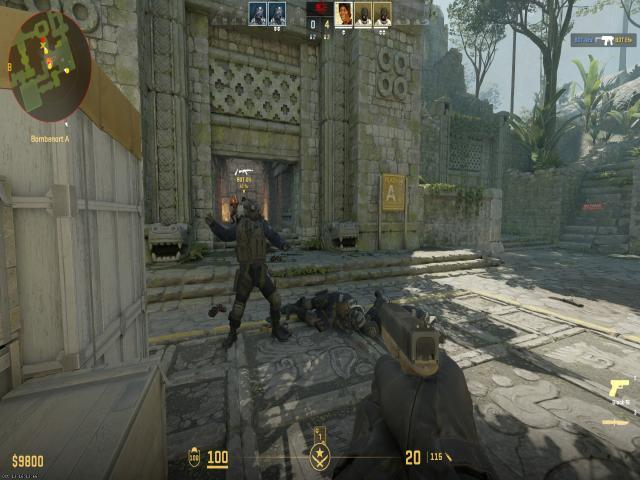CT: (236, 197, 277, 340), (230, 193, 238, 223)
CT-Head: (242, 196, 264, 228), (232, 194, 236, 200)
Dead: (282, 289, 386, 338)
